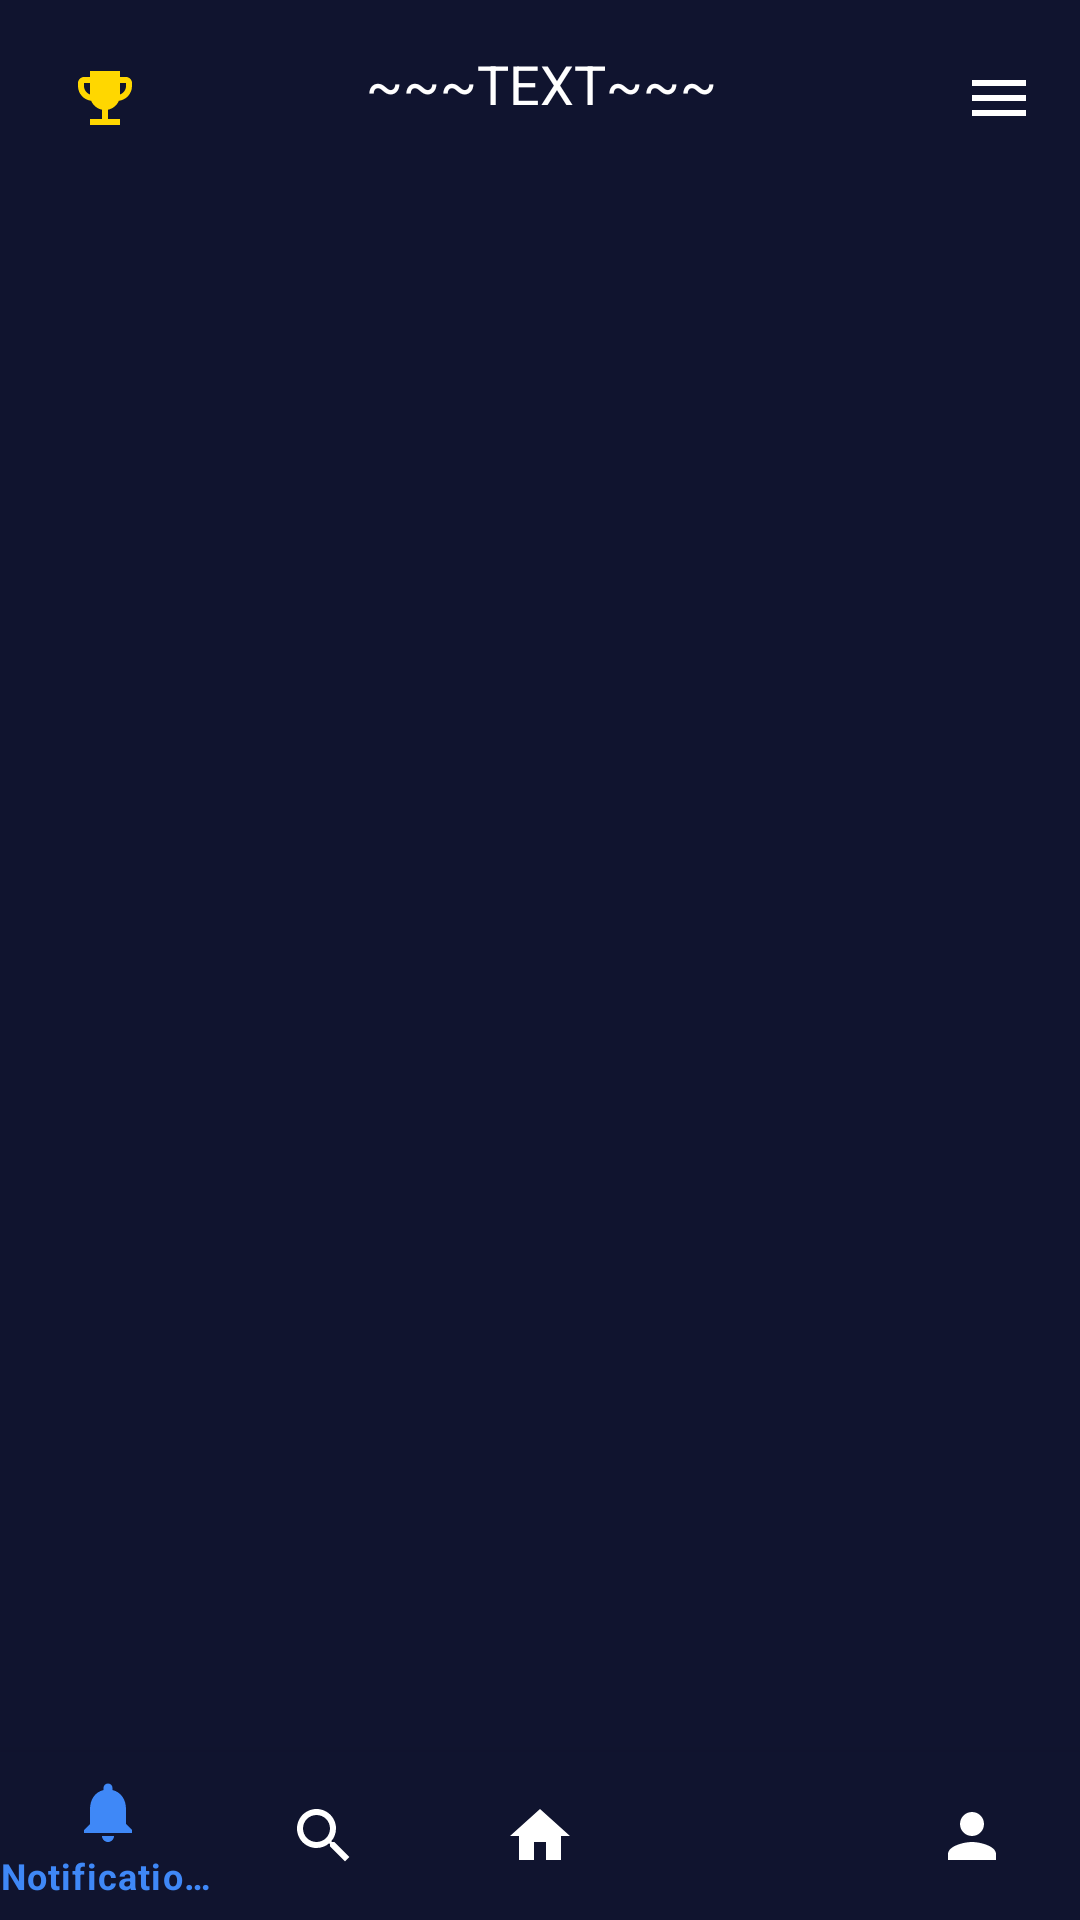

Icons on this 1080x1920 Android screen, each with the point to tap as (x=x, y=y):
menu: (x=999, y=98)
trophy: (x=105, y=98)
